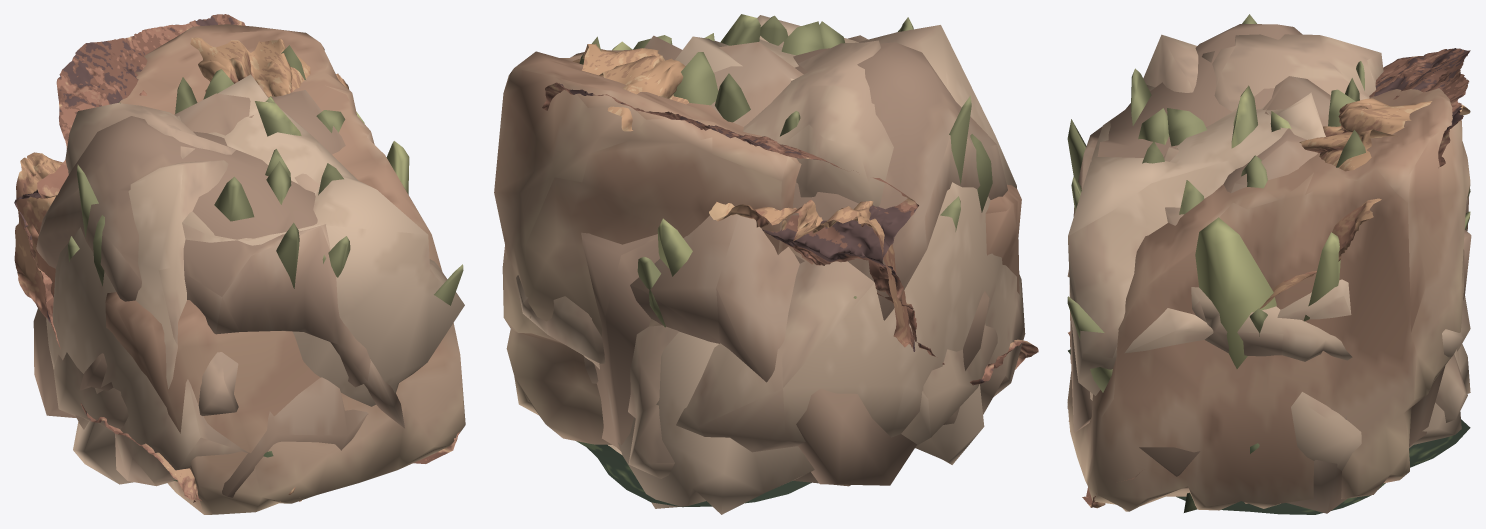
File: bend_kit.glb
3 renders of one model, left to right at view 1: azimuth 30°, elevation 25°; view 2: azimuth 150°, elevation 25°; view 3: azimuth 270°, elevation 25°, orthographic. The views are drawn at different scales.
Parts seen in each view (by area): view 1: curb0, stone3, stone4, stone2, stone0, shelf0, stone1, wall0, plant2, plant1, plant0; view 2: curb0, stone2, stone0, stone1, stone3, stone4, shelf0, wall0, plant2, plant1, plant0; view 3: curb0, stone4, stone1, stone3, plant0, plant2, stone2, wall0, stone0, shelf0, plant1.
Part boxes in pixels (box(x1,y1,x2,y2)): curb0: box(105, 24, 465, 514); stone3: box(36, 116, 404, 428); stone4: box(73, 74, 464, 484); stone2: box(46, 160, 248, 486); stone0: box(33, 90, 368, 497); shelf0: box(14, 14, 460, 502); stone1: box(53, 103, 319, 431); wall0: box(14, 37, 349, 502); plant2: box(93, 77, 364, 481); plant1: box(77, 69, 299, 288); plant0: box(68, 45, 463, 305); curb0: box(494, 49, 1021, 444); stone2: box(583, 25, 1025, 452); stone0: box(630, 35, 989, 485); stone1: box(516, 40, 997, 486); stone3: box(581, 35, 1007, 450); stone4: box(608, 15, 984, 514); shelf0: box(542, 82, 1038, 385); wall0: box(572, 43, 915, 351); plant2: box(633, 14, 992, 327); plant1: box(657, 28, 971, 276); plant0: box(576, 36, 960, 507); curb0: box(1067, 88, 1470, 511); stone4: box(1068, 84, 1470, 448); stone1: box(1067, 34, 1467, 422); stone3: box(1069, 24, 1471, 513); plant0: box(1067, 130, 1470, 514); plant2: box(1068, 61, 1470, 512); stone2: box(1143, 34, 1470, 470); wall0: box(1067, 98, 1470, 421); stone0: box(1070, 76, 1469, 476); shelf0: box(1068, 48, 1470, 508); plant1: box(1067, 14, 1470, 336).
Bounding box in the file's own units: 1 × 1.01 × 1.
5 materials, 5 textured.
